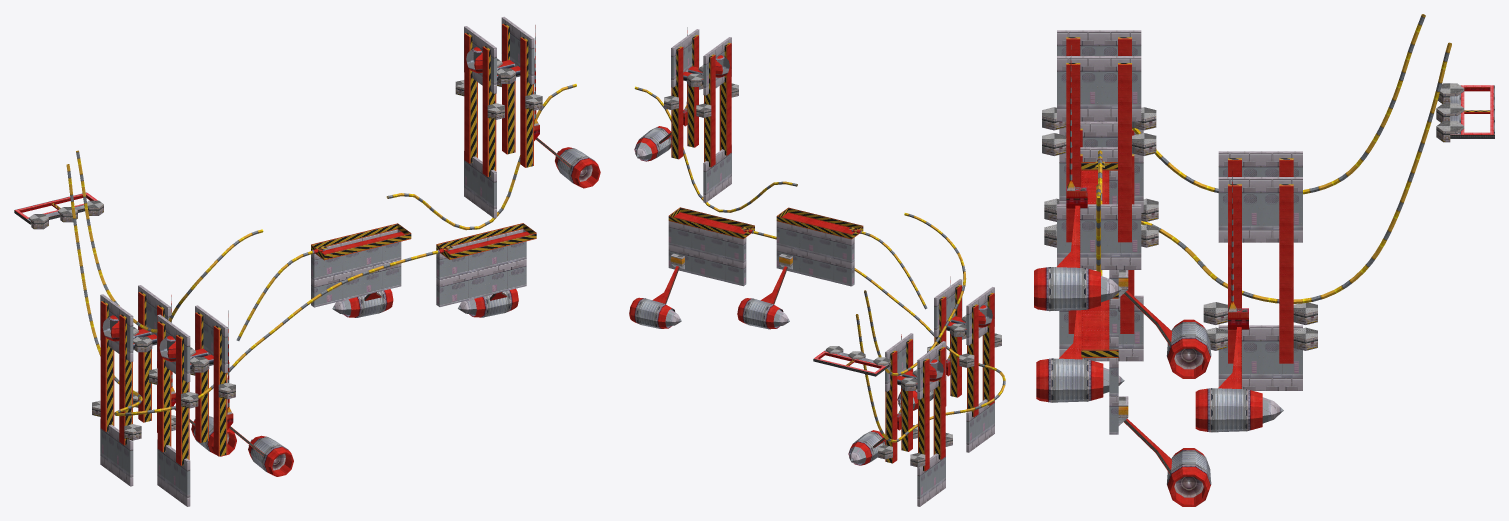
3 renders of one model, left to right at view 1: azimuth 30°, elevation 25°; view 2: azimuth 150°, elevation 25°; view 3: azimuth 270°, elevation 25°, orthographic. The views are drawn at different scales.
Parts seen in each view (by area): view 1: s13_on_07_6, s13_on_07_1, s13_on_07_8, s13_on_07_15, s13_on_07_3, s13_on_07_5, s13_on_07_11, s13_on_07_0, s13_on_07_2; view 2: s13_on_07_6, s13_on_07_1, s13_on_07_8, s13_on_07_15, s13_on_07_5, s13_on_07_3, s13_on_07_11, s13_on_07_2, s13_on_07_0; view 3: s13_on_07_6, s13_on_07_1, s13_on_07_5, s13_on_07_15, s13_on_07_3, s13_on_07_11, s13_on_07_2, s13_on_07_8, s13_on_07_7, s13_on_07_13, s13_on_07_14, s13_on_07_4 (+1 smaller).
Boxes of the visible parts, bbox=[...] form: s13_on_07_6: bbox=[100, 18, 559, 506]; s13_on_07_1: bbox=[100, 24, 600, 476]; s13_on_07_8: bbox=[51, 23, 536, 465]; s13_on_07_15: bbox=[66, 84, 576, 416]; s13_on_07_3: bbox=[29, 16, 542, 461]; s13_on_07_5: bbox=[27, 148, 592, 471]; s13_on_07_11: bbox=[31, 74, 542, 440]; s13_on_07_0: bbox=[102, 49, 520, 370]; s13_on_07_2: bbox=[29, 62, 542, 434]; s13_on_07_6: bbox=[635, 30, 994, 506]; s13_on_07_1: bbox=[629, 36, 994, 470]; s13_on_07_8: bbox=[668, 35, 993, 471]; s13_on_07_15: bbox=[634, 86, 1005, 442]; s13_on_07_5: bbox=[636, 127, 933, 461]; s13_on_07_3: bbox=[664, 29, 1001, 467]; s13_on_07_11: bbox=[664, 79, 1001, 467]; s13_on_07_2: bbox=[664, 68, 1001, 461]; s13_on_07_0: bbox=[683, 57, 992, 389]; s13_on_07_6: bbox=[1057, 32, 1302, 434]; s13_on_07_1: bbox=[1034, 39, 1293, 506]; s13_on_07_5: bbox=[1049, 95, 1459, 483]; s13_on_07_15: bbox=[1096, 14, 1451, 303]; s13_on_07_3: bbox=[1042, 30, 1464, 404]; s13_on_07_11: bbox=[1042, 94, 1450, 350]; s13_on_07_2: bbox=[1042, 89, 1464, 425]; s13_on_07_8: bbox=[1066, 37, 1490, 357]; s13_on_07_7: bbox=[1174, 348, 1203, 497]; s13_on_07_13: bbox=[1066, 87, 1490, 329]; s13_on_07_14: bbox=[1069, 45, 1233, 303]; s13_on_07_4: bbox=[1124, 292, 1241, 473].
Bounding box in the file's own units: 1537 × 1403 × 984.
Materials: 16 (16 with a texture image).
